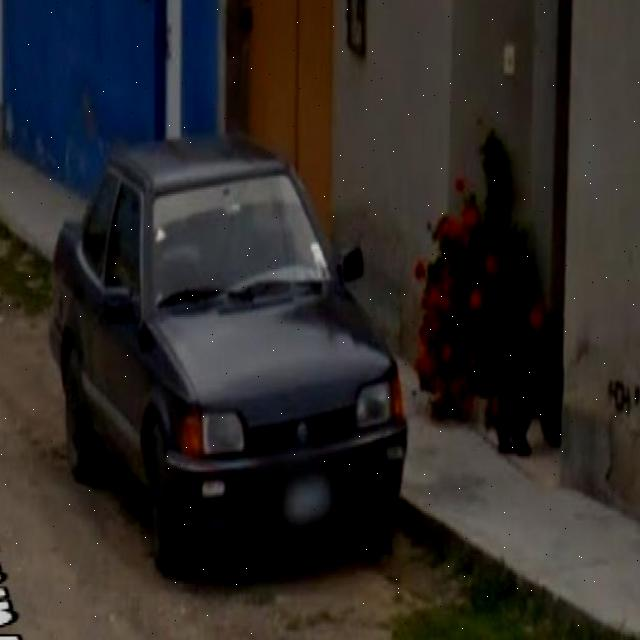car: (51, 131, 409, 570)
